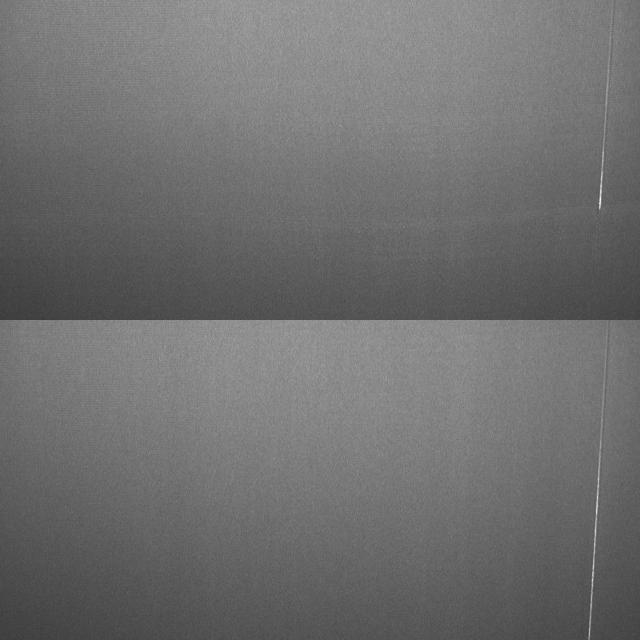Warp_Weft: (587, 321, 610, 640), (597, 0, 616, 211)
